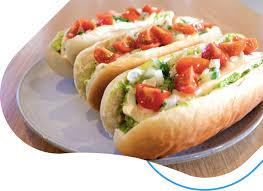Completos: (103, 32, 262, 154)
